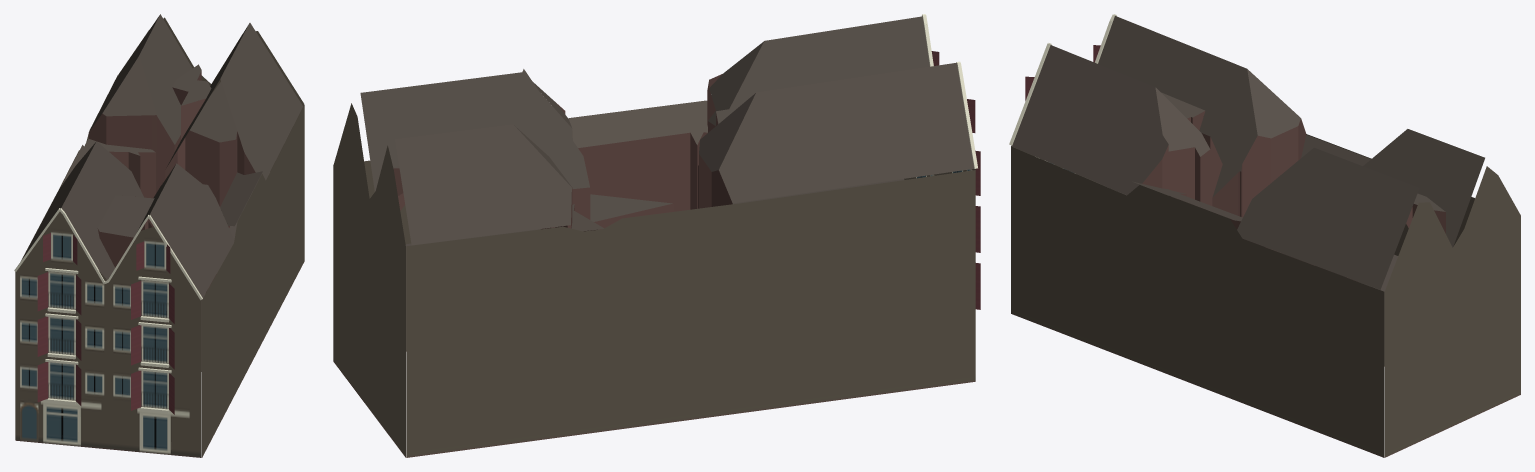
3 views of the same model, side by side, from view 1: azimuth 30°, elevation 25°; view 2: azimuth 150°, elevation 25°; view 3: azimuth 270°, elevation 25° (orthographic). The views are drawn at different scales.
Parts seen in each view (by area): view 1: 0363100012177576; view 2: 0363100012177576; view 3: 0363100012177576.
Boxes of the visible parts, left/top/right/bottom form: 0363100012177576: left=14, top=14, right=304, bottom=457; 0363100012177576: left=333, top=14, right=980, bottom=457; 0363100012177576: left=1009, top=14, right=1520, bottom=457.
Bounding box in the file's own units: 27.79 × 15.69 × 28.86.
Materials: 3 (1 with a texture image).
